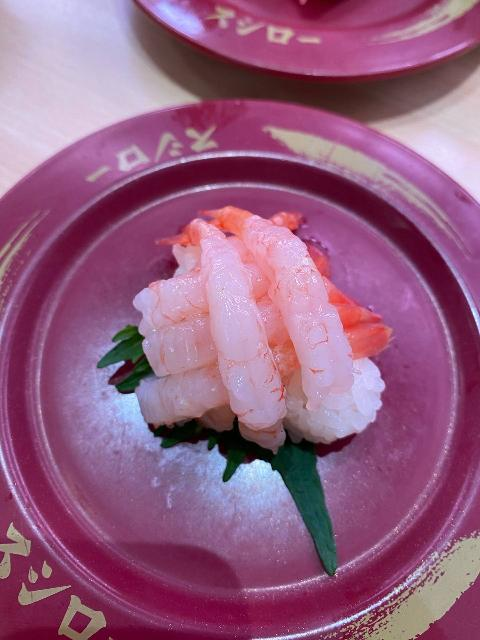janred: (6, 43, 480, 599), (146, 0, 480, 61)
